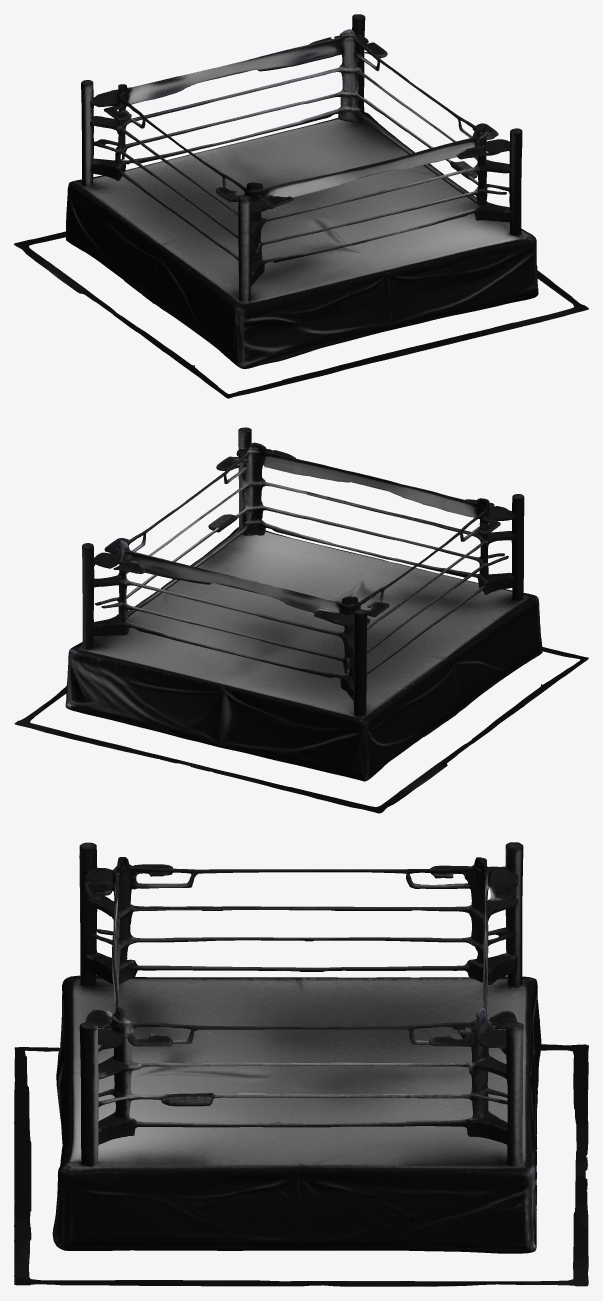
Rendered from luwai-1997-1741625801.glb.
3 views of the same model, one above another, from view 1: azimuth 30°, elevation 25°; view 2: azimuth 150°, elevation 25°; view 3: azimuth 270°, elevation 25° (orthographic). The views are drawn at different scales.
Visible parts, largest first — view 1: world; view 2: world; view 3: world.
Boxes of the visible parts, x1,y1,x2,y2 form: world: (14, 14, 588, 398); world: (14, 427, 588, 813); world: (14, 842, 588, 1286).
Size of the model in its own units: 0.9998 by 0.4503 by 1.
1 material, 1 textured.
